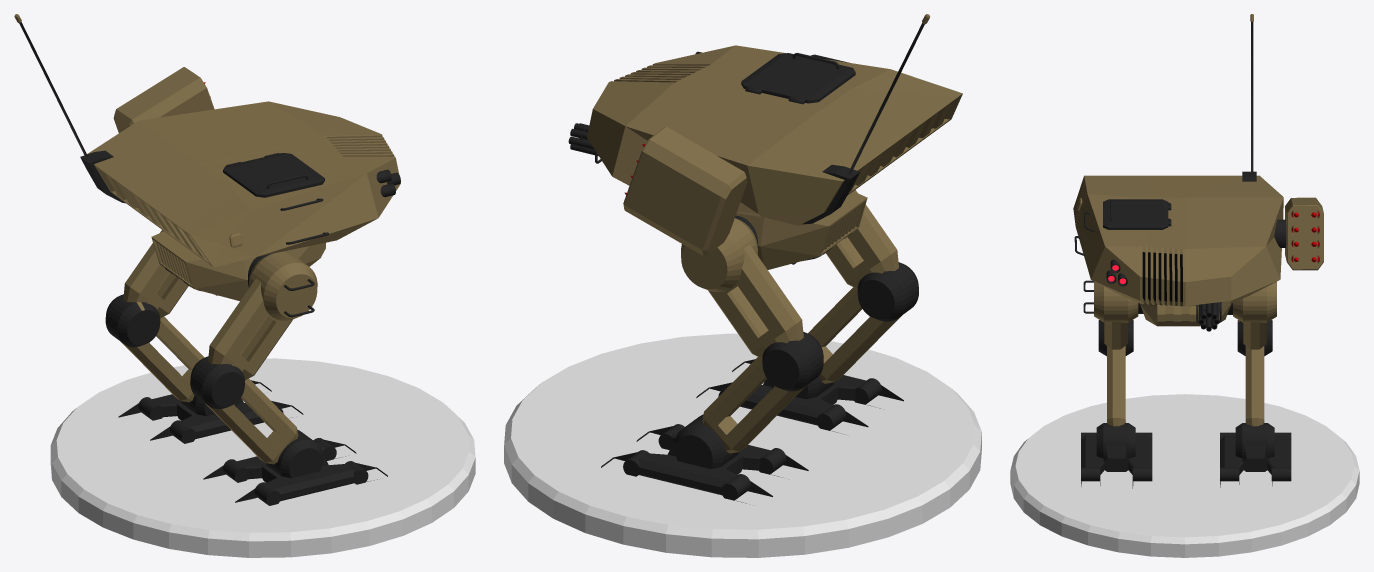
File: Robot1.fbx
3 renders of one model, left to right at view 1: azimuth 30°, elevation 25°; view 2: azimuth 150°, elevation 25°; view 3: azimuth 270°, elevation 25°, orthographic. The views are drawn at different scales.
Visible parts, largest first — view 1: Cylinder.001, Oberkörper, Leg oben, Leg Unten.001, Leg Unten, Fuß.001, Unterkörper, Raketenwerfer, Cube, Leg oben.001, Fuß, Antenne; view 2: Cylinder.001, Oberkörper, Raketenwerfer, Leg oben.001, Leg Unten, Leg Unten.001, Fuß, Unterkörper, Cube, Leg oben, Fuß.001, Antenne (+4 smaller); view 3: Cylinder.001, Oberkörper, Fuß, Fuß.001, Raketenwerfer, Leg Unten, Cube, Leg Unten.001, Leg oben, Leg oben.001, Unterkörper, Antenne.
Boxes of the visible parts, x1,y1,x2,y2 form: Cylinder.001: (50, 358, 475, 557); Oberkörper: (87, 101, 400, 267); Leg oben: (208, 252, 317, 380); Leg Unten.001: (190, 356, 298, 464); Leg Unten: (105, 294, 204, 402); Fuß.001: (236, 429, 354, 501); Unterkörper: (151, 231, 325, 300); Raketenwerfer: (113, 67, 214, 132); Cube: (223, 153, 324, 197); Leg oben.001: (123, 230, 188, 318); Fuß: (152, 394, 263, 438); Antenne: (14, 14, 125, 203); Cylinder.001: (504, 333, 981, 557); Oberkörper: (587, 45, 962, 225); Raketenwerfer: (623, 126, 747, 255); Leg oben.001: (681, 218, 803, 358); Leg Unten: (702, 332, 823, 453); Leg Unten.001: (808, 262, 918, 383); Fuß: (638, 414, 771, 495); Unterkörper: (736, 191, 867, 269); Cube: (741, 53, 855, 103); Leg oben: (826, 190, 898, 288); Fuß.001: (740, 375, 866, 425); Antenne: (801, 14, 929, 224); Cylinder.001: (1010, 394, 1359, 557); Oberkörper: (1073, 175, 1283, 306); Fuß: (1220, 423, 1291, 474); Fuß.001: (1081, 423, 1152, 474); Raketenwerfer: (1285, 197, 1323, 270); Leg Unten: (1237, 320, 1272, 426); Cube: (1103, 199, 1168, 229); Leg Unten.001: (1098, 320, 1133, 426); Leg oben: (1094, 281, 1138, 349); Leg oben.001: (1233, 281, 1276, 349); Unterkörper: (1140, 303, 1230, 326); Antenne: (1242, 14, 1256, 181).
Size of the model in its own units: 752 by 869 by 708.
